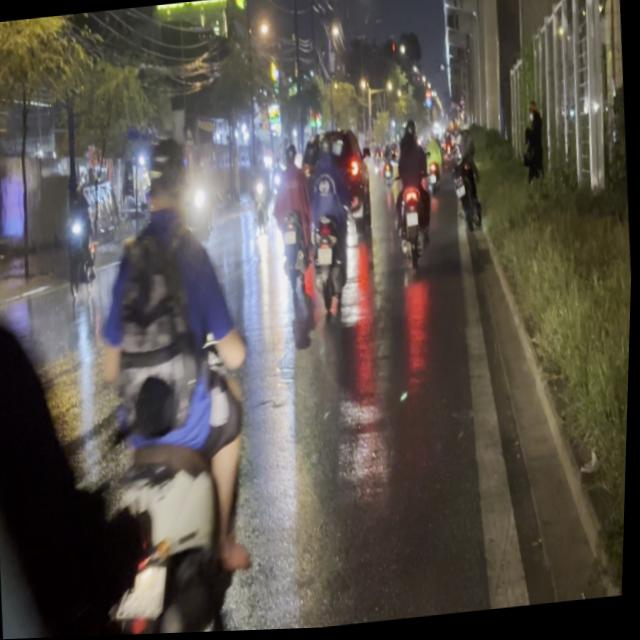helmet: (140, 135, 198, 225)
licenseplate: (70, 127, 278, 638)
